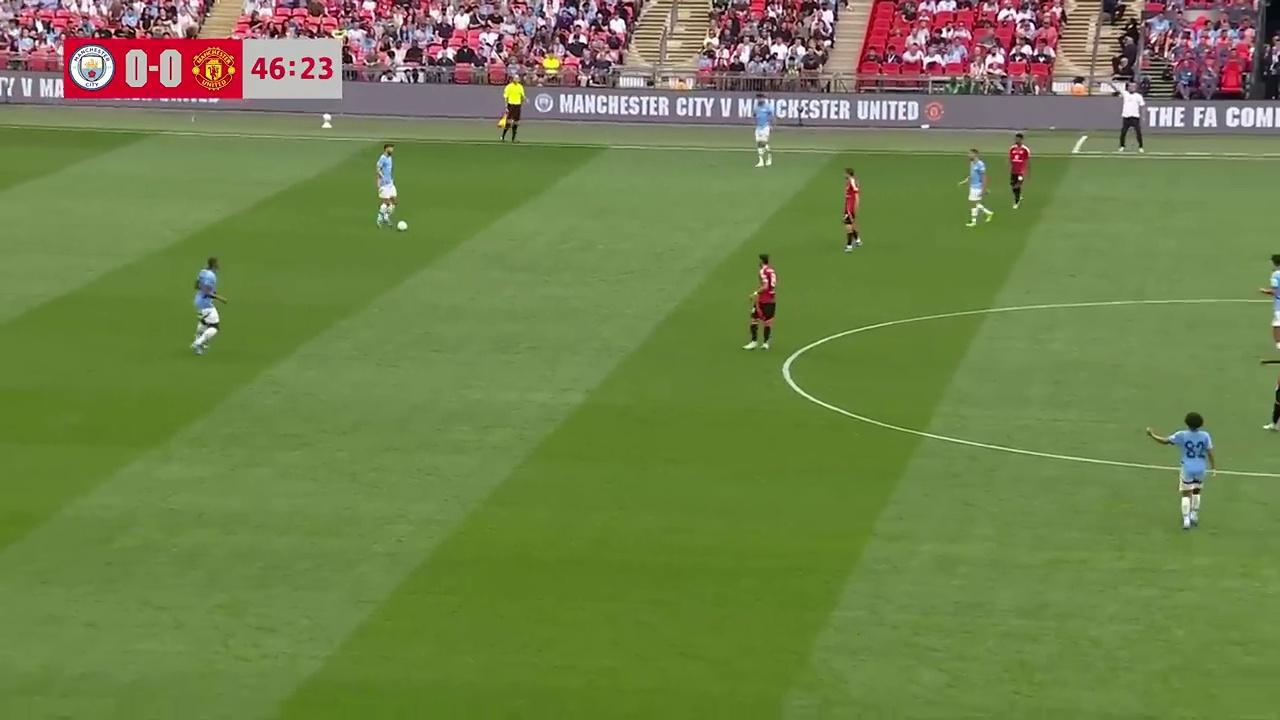ball: (396, 218, 408, 232)
player: (1149, 412, 1217, 530), (744, 254, 776, 351), (192, 257, 225, 340), (190, 277, 224, 355), (958, 148, 992, 226), (1257, 254, 1280, 362), (375, 143, 397, 228), (1007, 135, 1031, 209), (842, 169, 862, 252), (1261, 363, 1280, 438), (754, 109, 772, 167)
referee: (497, 77, 524, 142)
